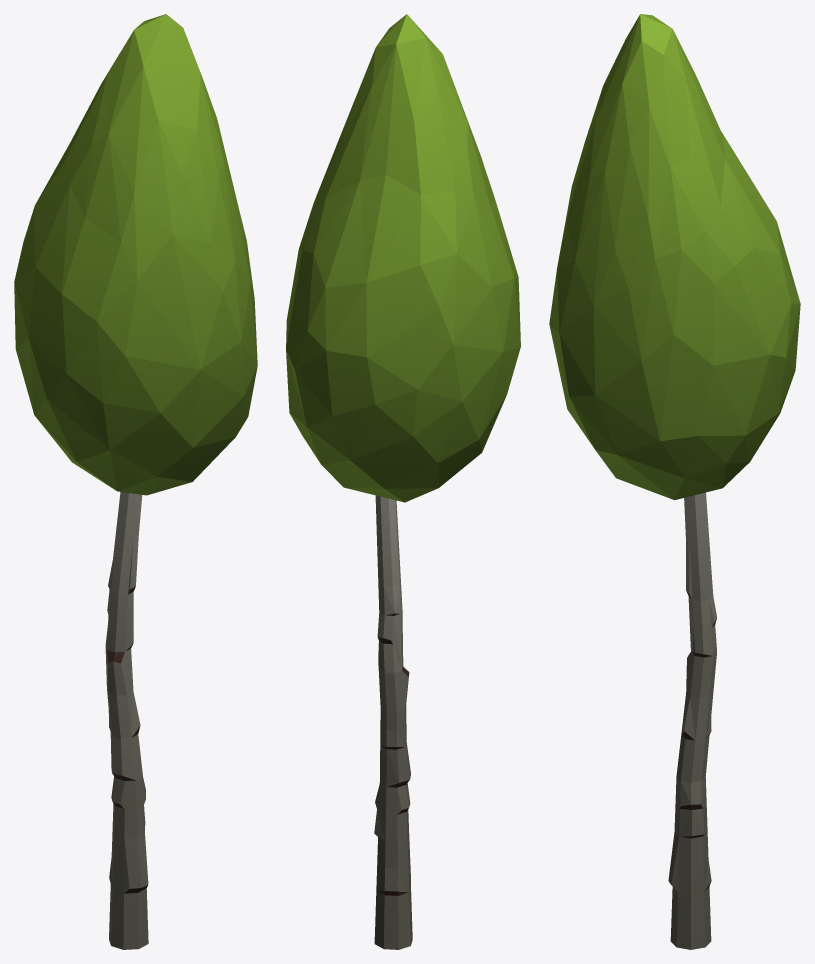
File: ZLP_Plant_J_6.FBX
3 views of the same model, side by side, from view 1: azimuth 30°, elevation 25°; view 2: azimuth 150°, elevation 25°; view 3: azimuth 270°, elevation 25° (orthographic). The views are drawn at different scales.
Visible parts, largest first — view 1: ZLP_Plant_J_6; view 2: ZLP_Plant_J_6; view 3: ZLP_Plant_J_6.
Boxes of the visible parts, box(x1,y1,x2,y2) form: ZLP_Plant_J_6: box(14, 14, 257, 949); ZLP_Plant_J_6: box(286, 14, 520, 949); ZLP_Plant_J_6: box(549, 14, 800, 949).
Size of the model in its own units: 186 by 794 by 194.
